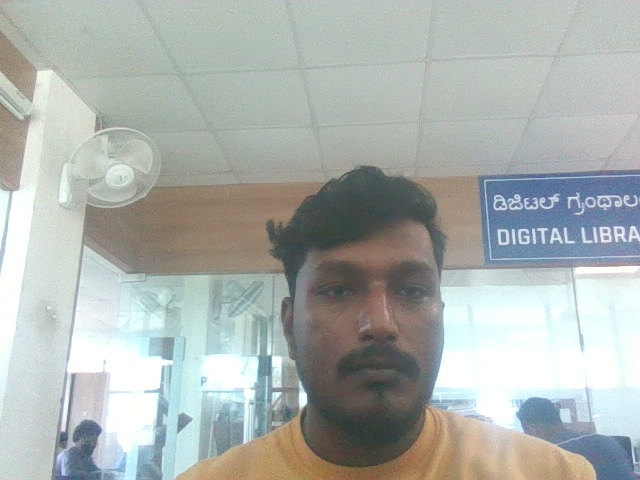real: (265, 149, 471, 441)
